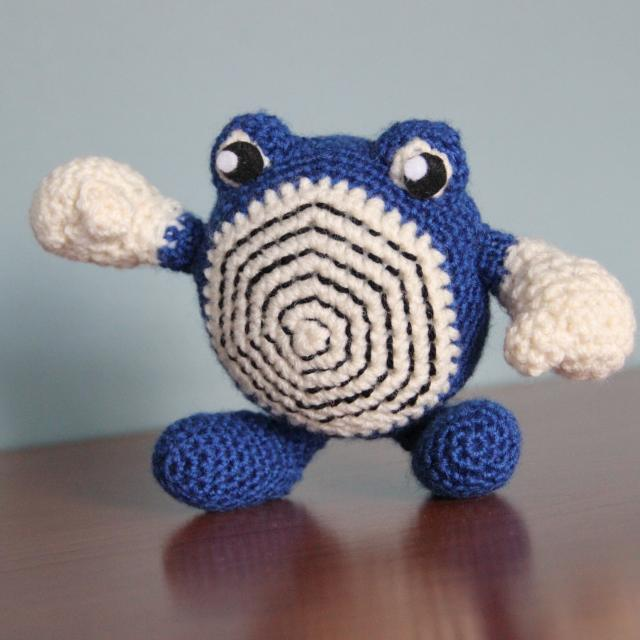Poliwhirl: (36, 106, 640, 498)
